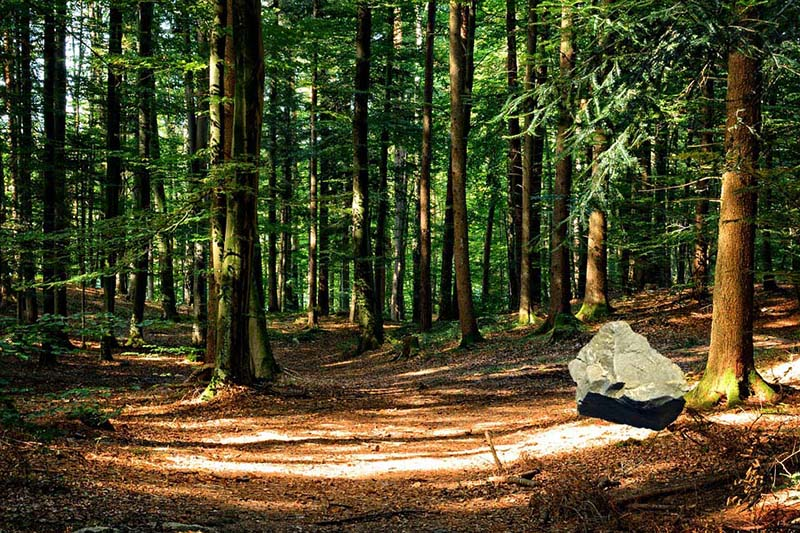Rocks: (553, 314, 697, 440)
